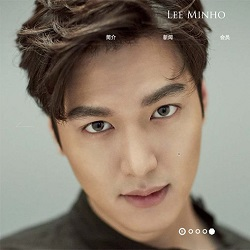unmask: (56, 71, 207, 234)
